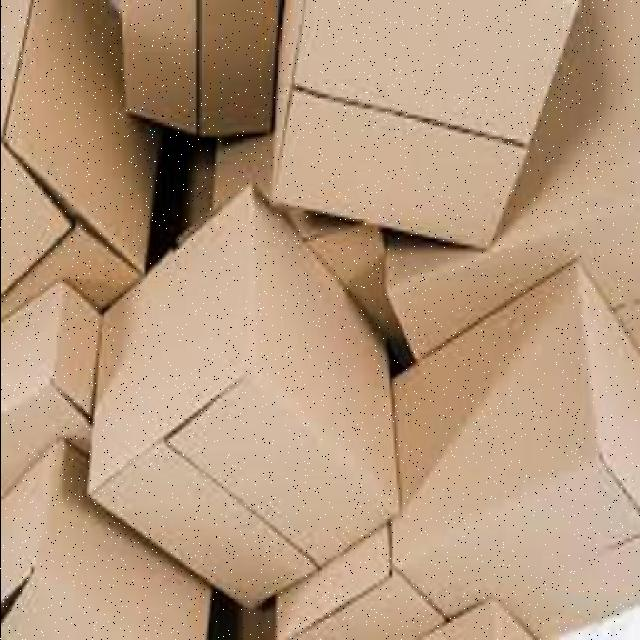normal: (84, 188, 400, 608)
